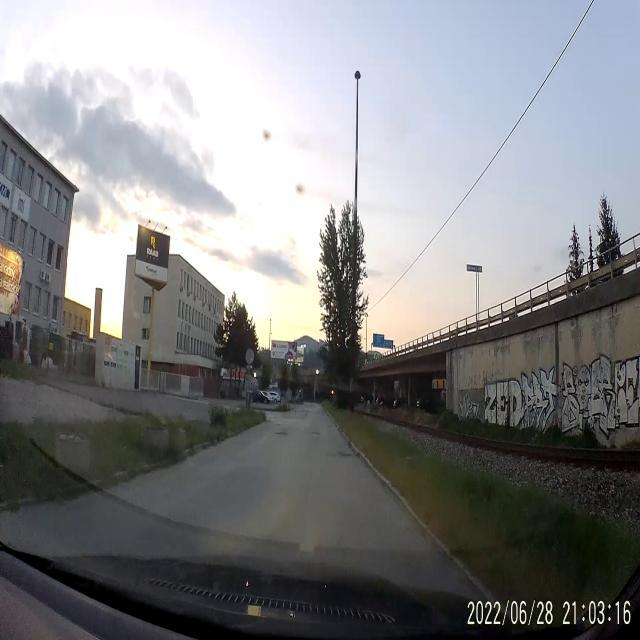Pothole: (336, 448, 354, 460), (274, 429, 290, 437), (310, 426, 321, 436), (276, 420, 282, 428), (327, 423, 332, 429)
